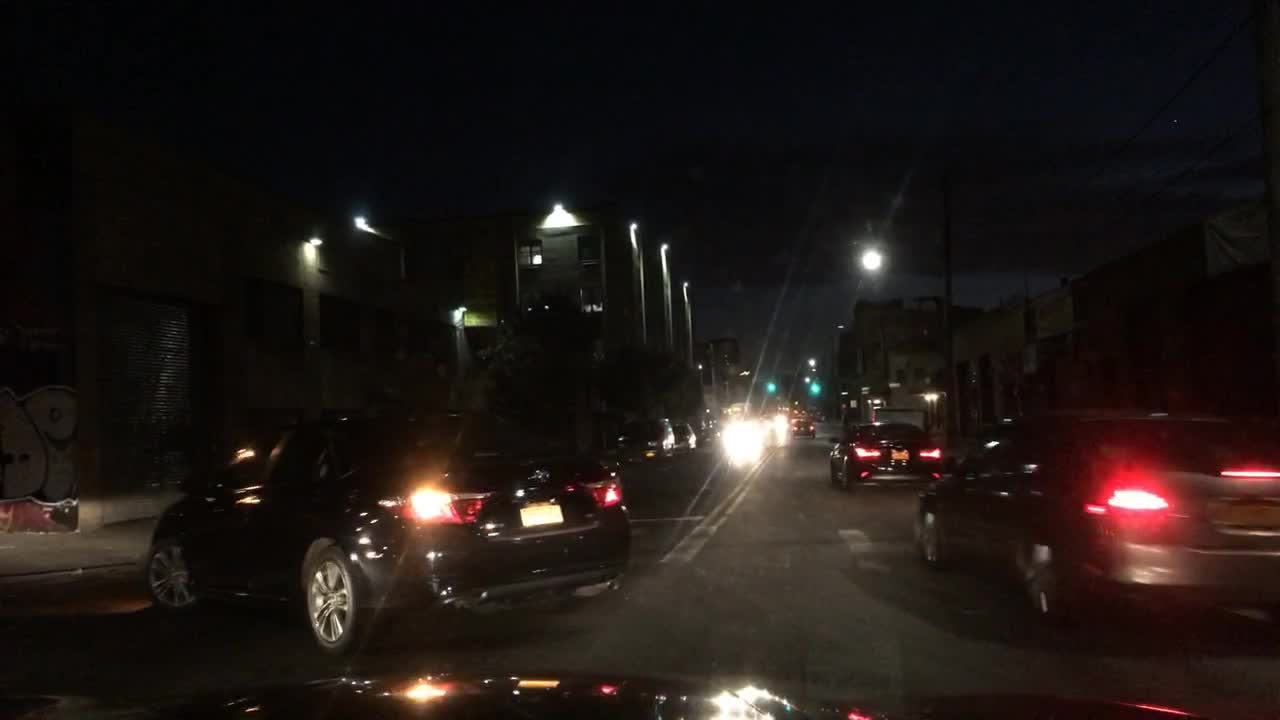car: (147, 414, 631, 657), (917, 407, 1278, 619), (828, 421, 942, 489), (618, 416, 670, 463), (719, 420, 763, 455), (668, 424, 691, 455), (788, 420, 816, 436)
traffic light: (766, 377, 776, 393), (811, 375, 818, 393)
